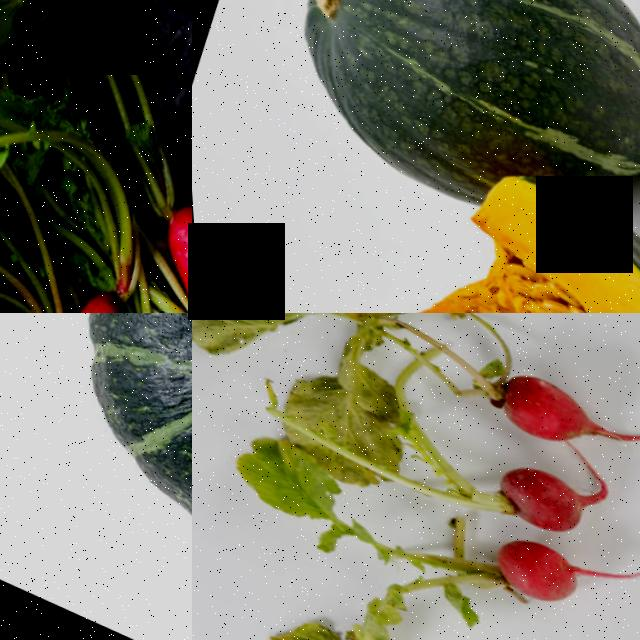pumpkin: (263, 0, 640, 216), (338, 112, 640, 313), (14, 313, 192, 640)
radishes: (0, 46, 192, 313), (396, 313, 613, 459), (395, 480, 586, 618), (412, 415, 593, 546)
